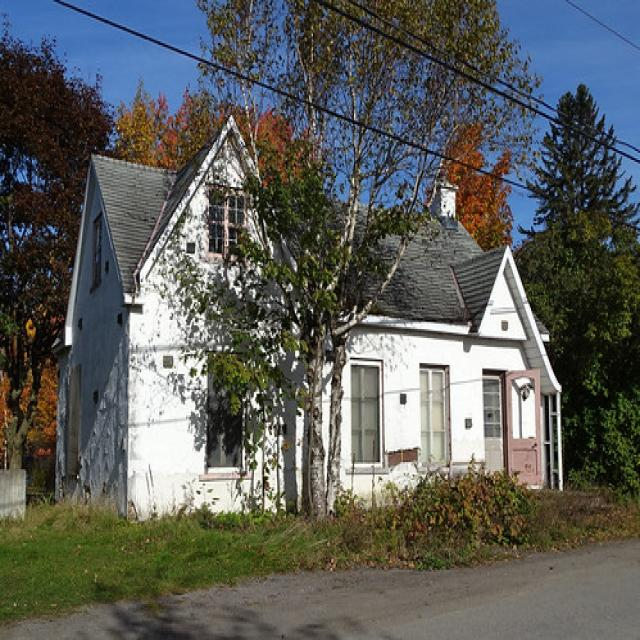building: (55, 114, 563, 524)
